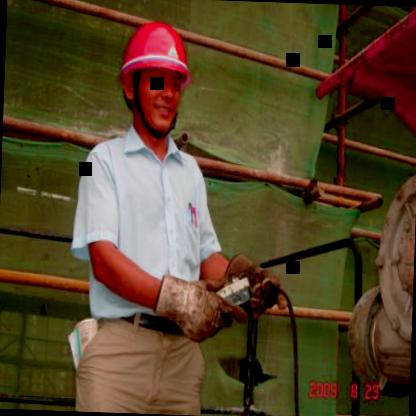helmet: (102, 13, 204, 148)
